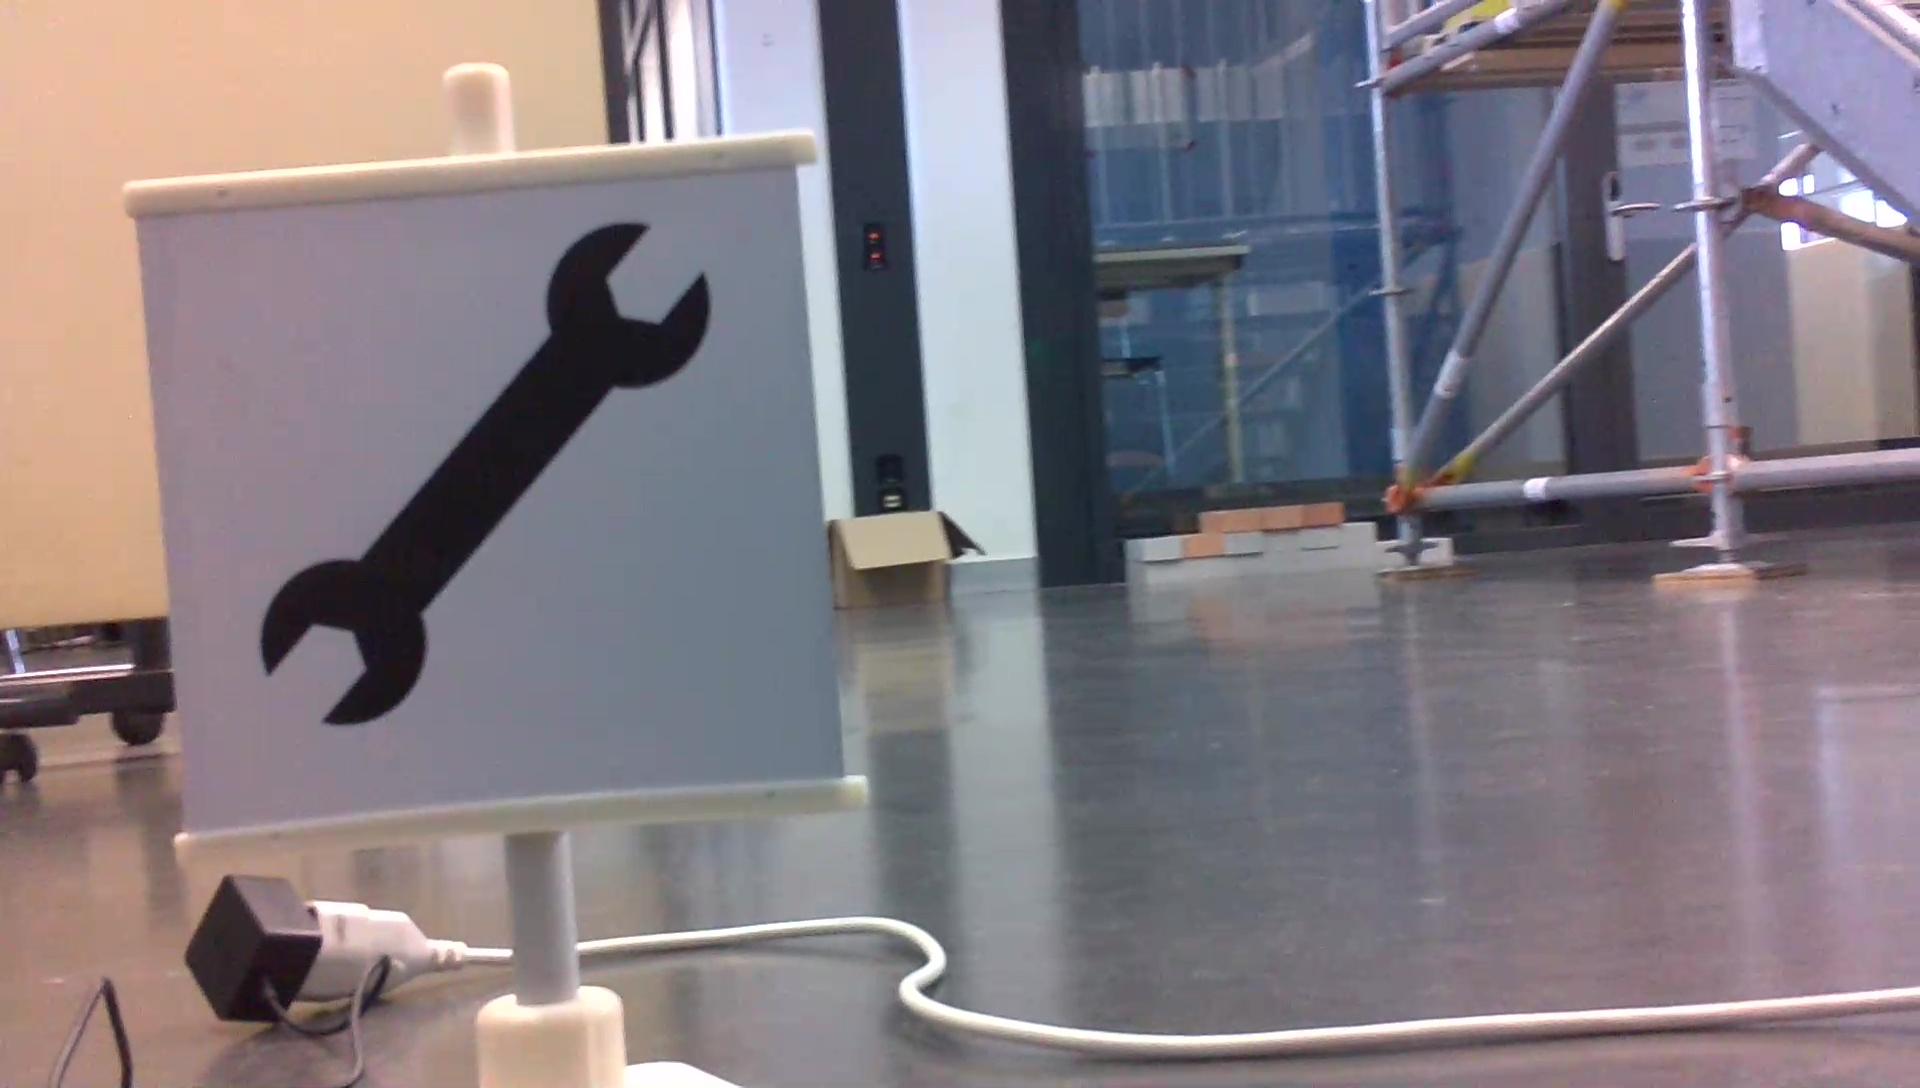wrench: (245, 206, 727, 737)
